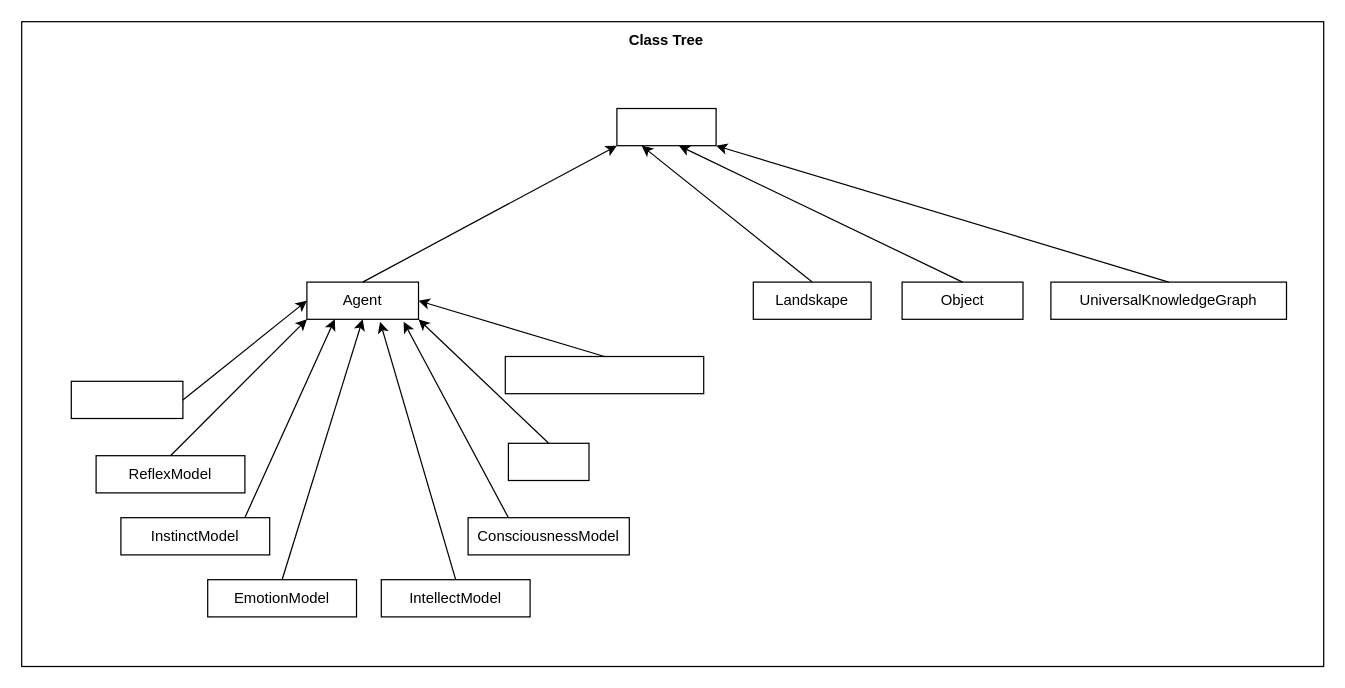
The diagram is 1345 pixels wide and 688 high, and some of its shapes have lost their labels. The centre of each missing label's shape, as x and y in pixels:
"Behavior" goes at point (548, 461).
"IndividualKnowledgeGraph" goes at point (604, 374).
"Sensor" goes at point (126, 399).
"World" goes at point (666, 126).
